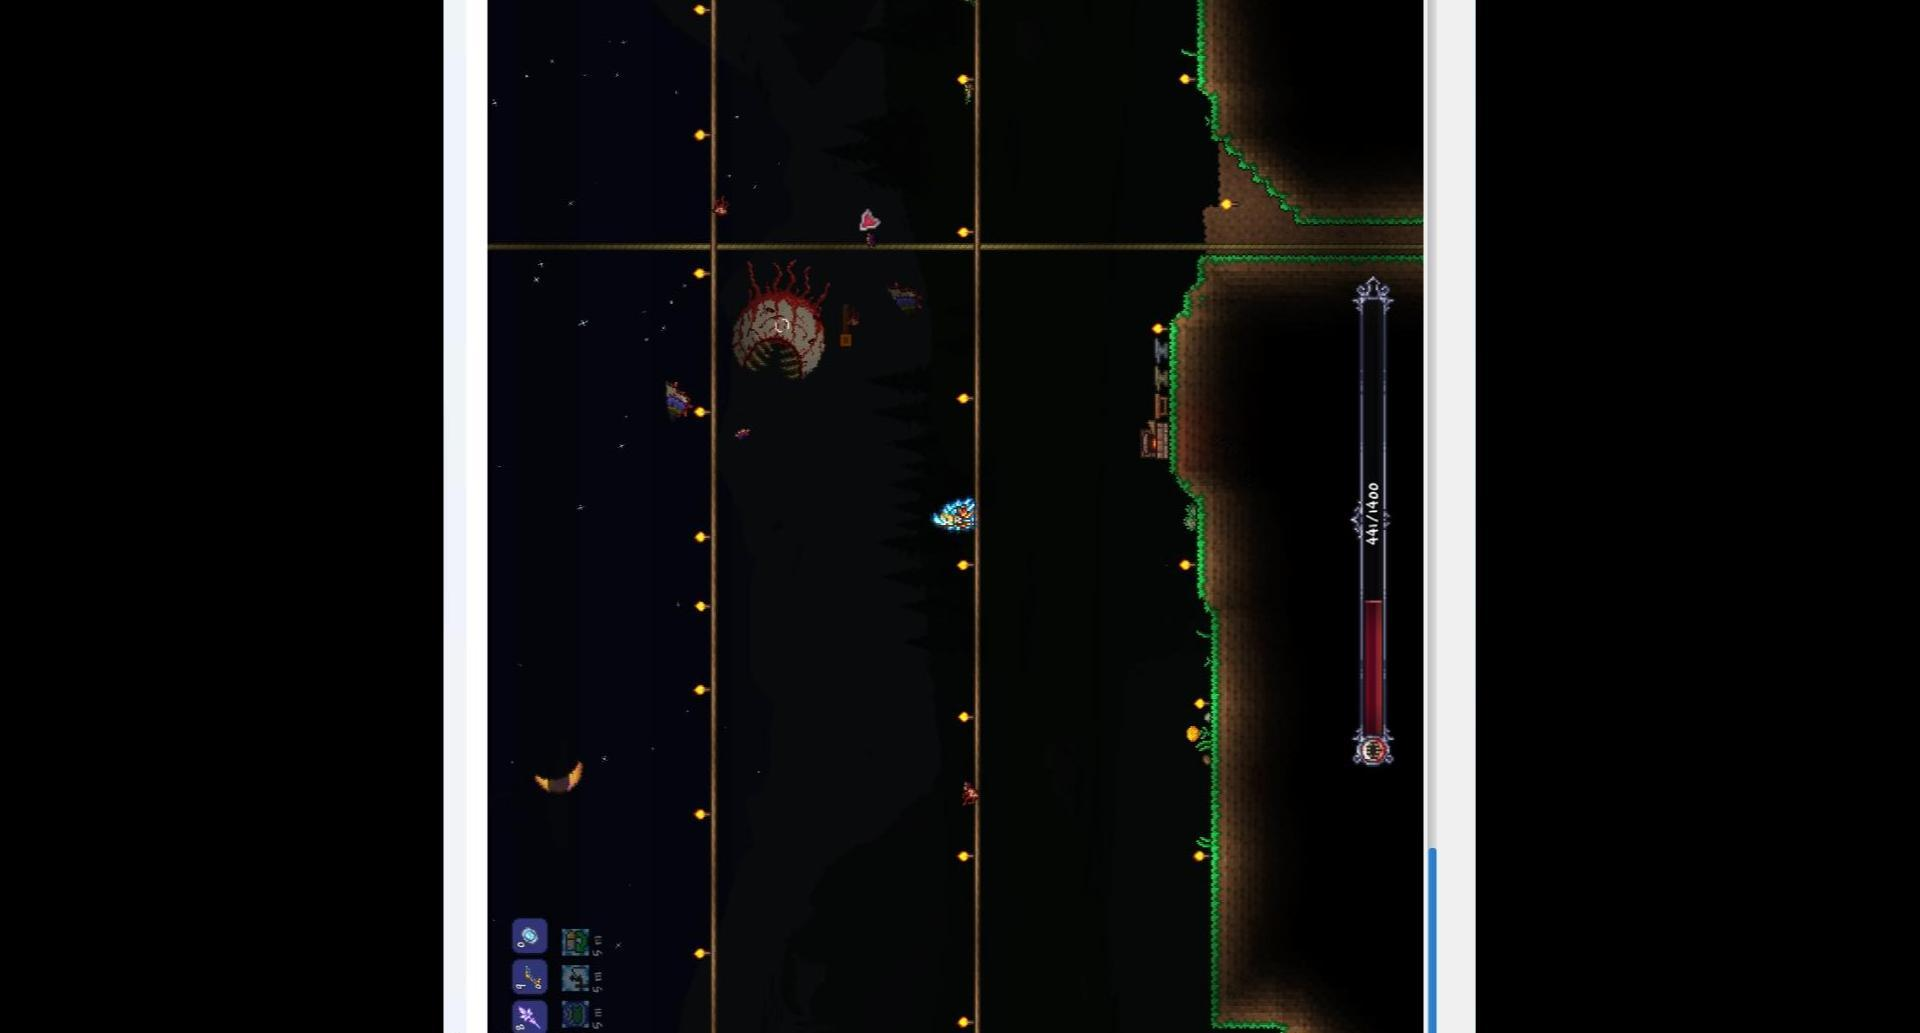eyeC: (726, 254, 838, 383)
